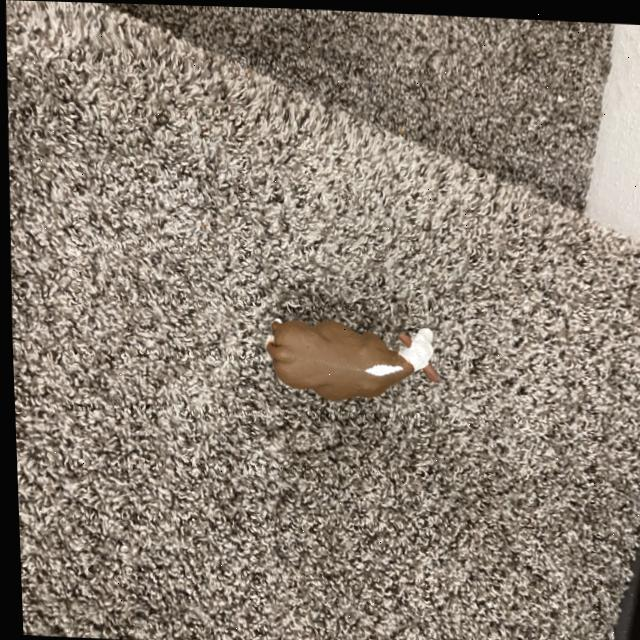cow: (263, 317, 436, 401), (339, 365, 346, 373)
